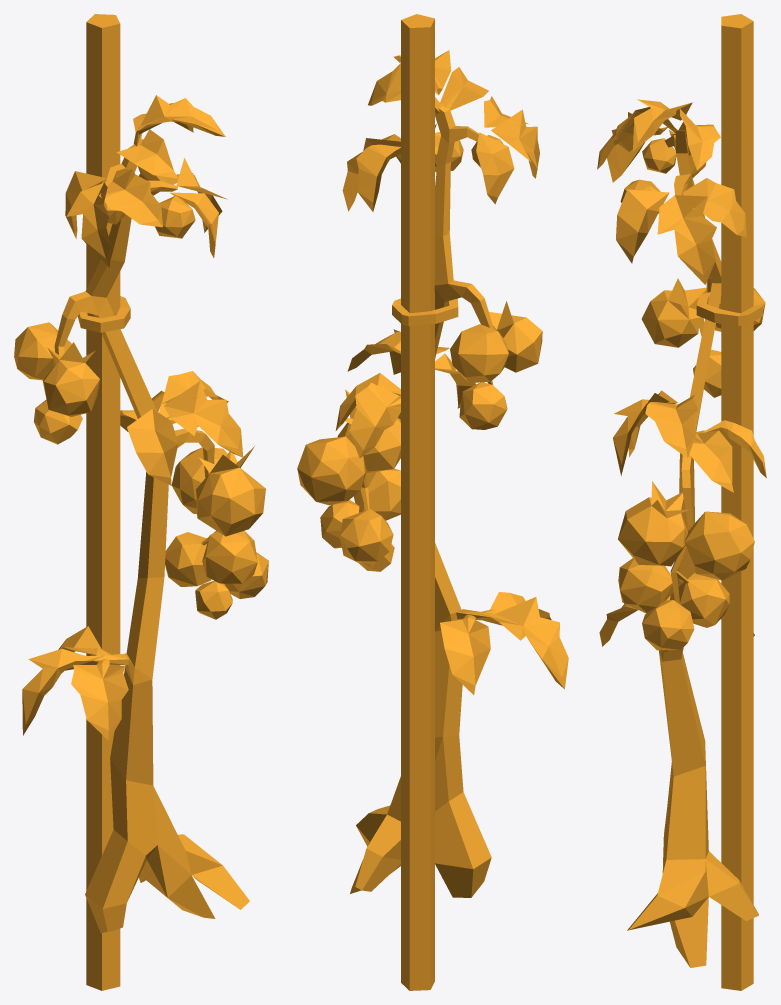
The model's file is SM_Tomato_Ripe_Single_A.fbx.
3 renders of one model, left to right at view 1: azimuth 30°, elevation 25°; view 2: azimuth 150°, elevation 25°; view 3: azimuth 270°, elevation 25°, orthographic.
Parts seen in each view (by area): view 1: tomato-ripe-single-a; view 2: tomato-ripe-single-a; view 3: tomato-ripe-single-a.
Part boxes in pixels (x1,y1,x2,y2): tomato-ripe-single-a: [14, 14, 268, 990]; tomato-ripe-single-a: [297, 14, 568, 990]; tomato-ripe-single-a: [597, 14, 766, 990].
Bounding box in the file's own units: 0.4264 × 1.61 × 0.2579.
